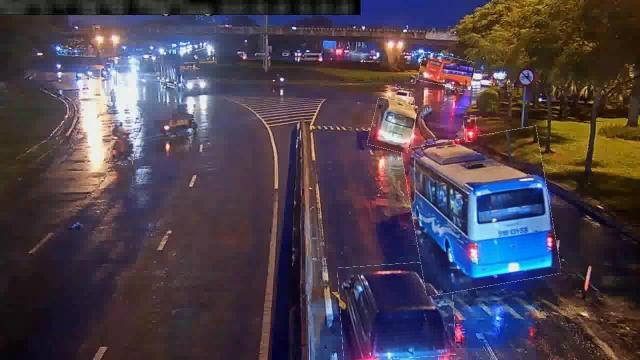Bike: (109, 134, 135, 166), (112, 120, 134, 140), (464, 116, 476, 142)
Bus: (408, 131, 556, 291), (370, 99, 416, 151), (420, 54, 474, 88)
Car: (339, 262, 455, 360), (387, 88, 415, 105), (446, 78, 466, 94)
